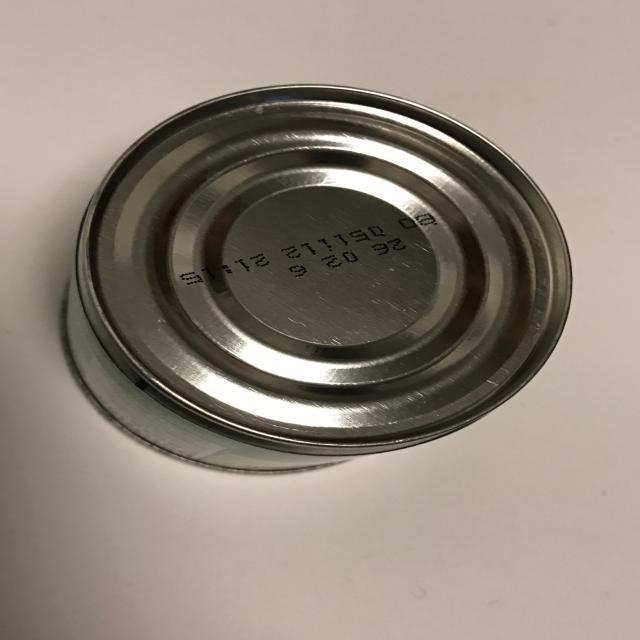metal: (59, 83, 575, 477)
